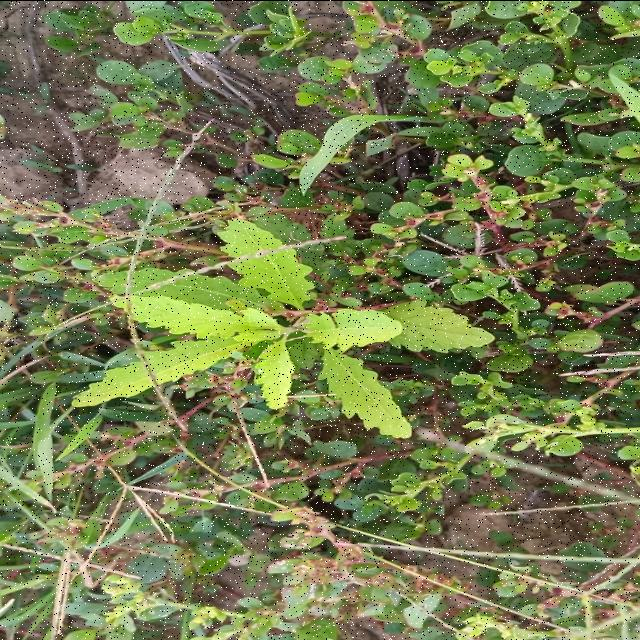weed: (72, 218, 493, 437)
